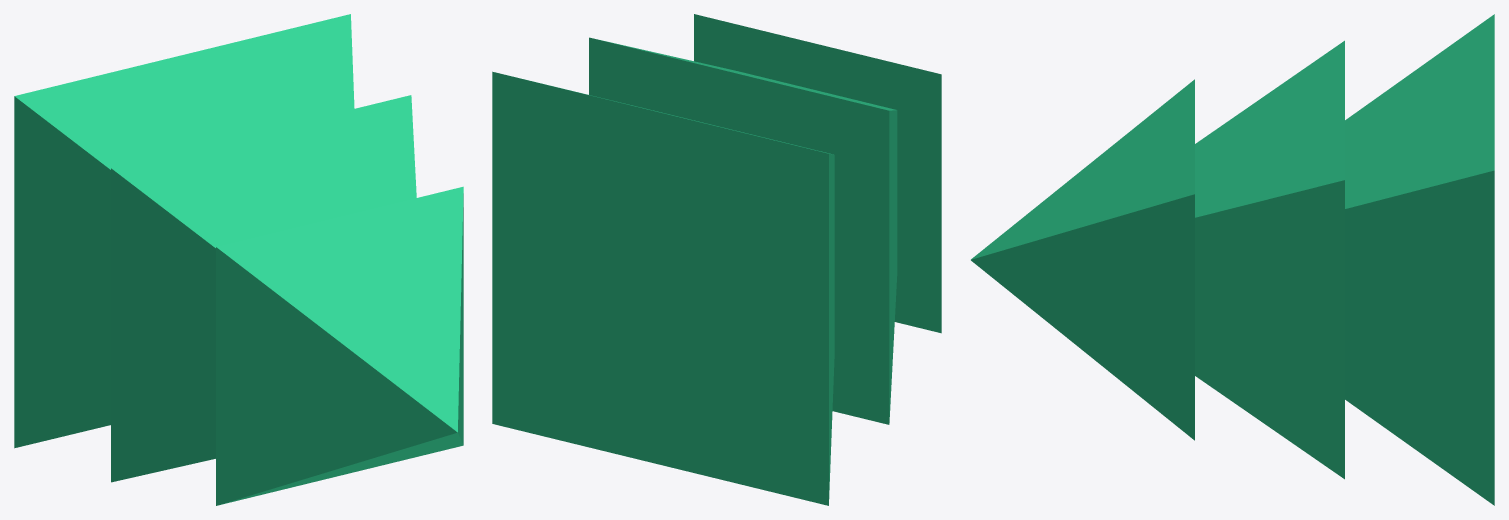
The model's file is plant.obj.
3 renders of one model, left to right at view 1: azimuth 30°, elevation 25°; view 2: azimuth 150°, elevation 25°; view 3: azimuth 270°, elevation 25°, orthographic. The views are drawn at different scales.
Visible parts, largest first — view 1: plantSmall1.002_plantSmall1.003; view 2: plantSmall1.002_plantSmall1.003; view 3: plantSmall1.002_plantSmall1.003.
Part boxes in pixels (x1,y1,x2,y2): plantSmall1.002_plantSmall1.003: (14, 14, 463, 505); plantSmall1.002_plantSmall1.003: (492, 14, 941, 505); plantSmall1.002_plantSmall1.003: (971, 14, 1494, 505).
Size of the model in its own units: 0.0494 by 0.0494 by 0.07.
